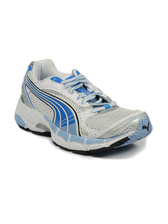shoes: (14, 56, 153, 155)
